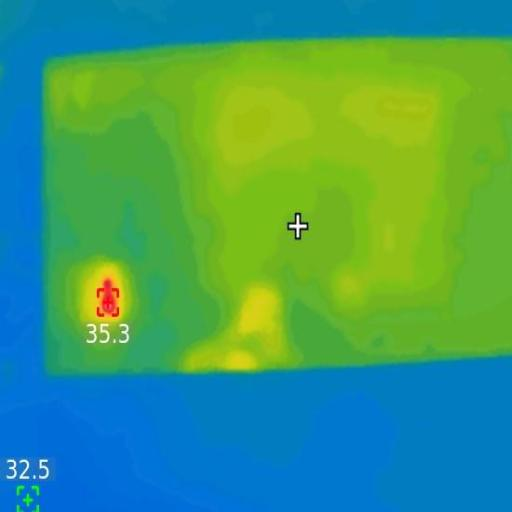hotspot: (96, 278, 122, 320)
